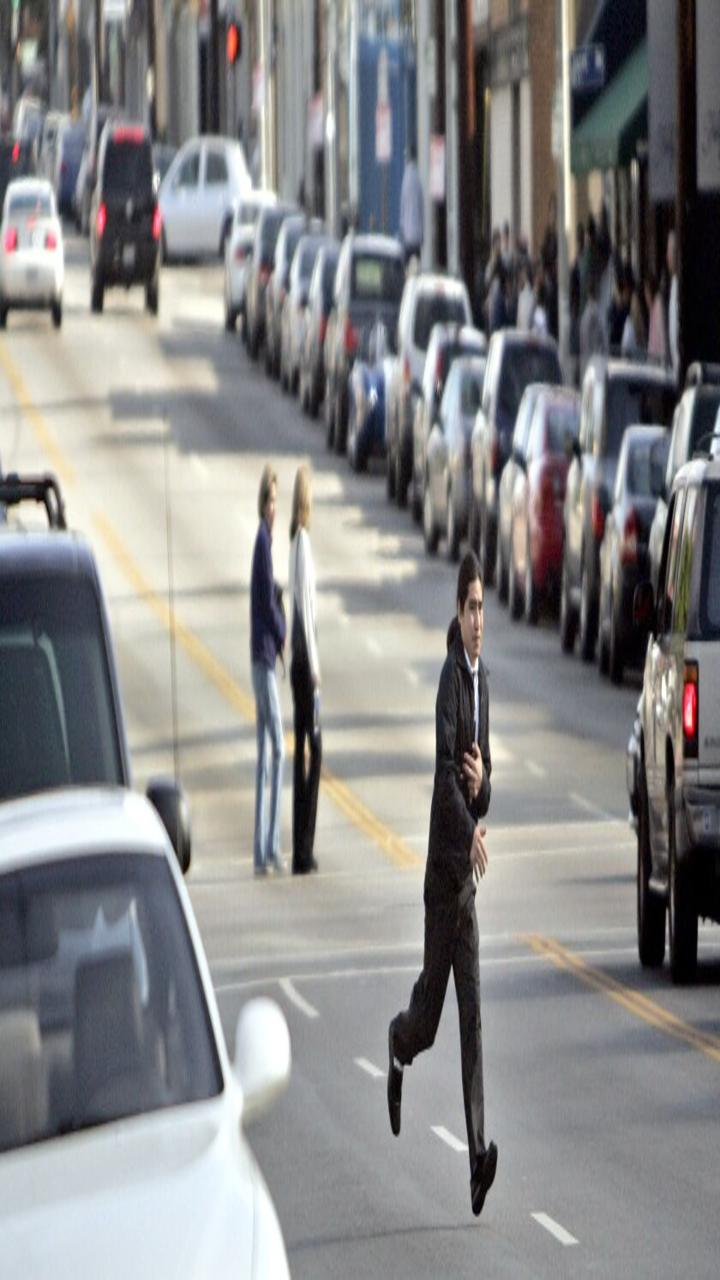pedestrian: (390, 540, 542, 1217), (289, 462, 351, 908), (234, 460, 296, 906)
vehicle: (624, 445, 720, 979), (562, 351, 648, 656), (492, 372, 592, 612), (480, 327, 580, 567), (416, 337, 516, 577), (386, 275, 486, 515), (335, 246, 435, 486), (307, 226, 407, 466), (269, 195, 369, 435), (593, 384, 658, 691), (76, 124, 175, 324), (1, 149, 99, 349), (236, 189, 331, 391)
